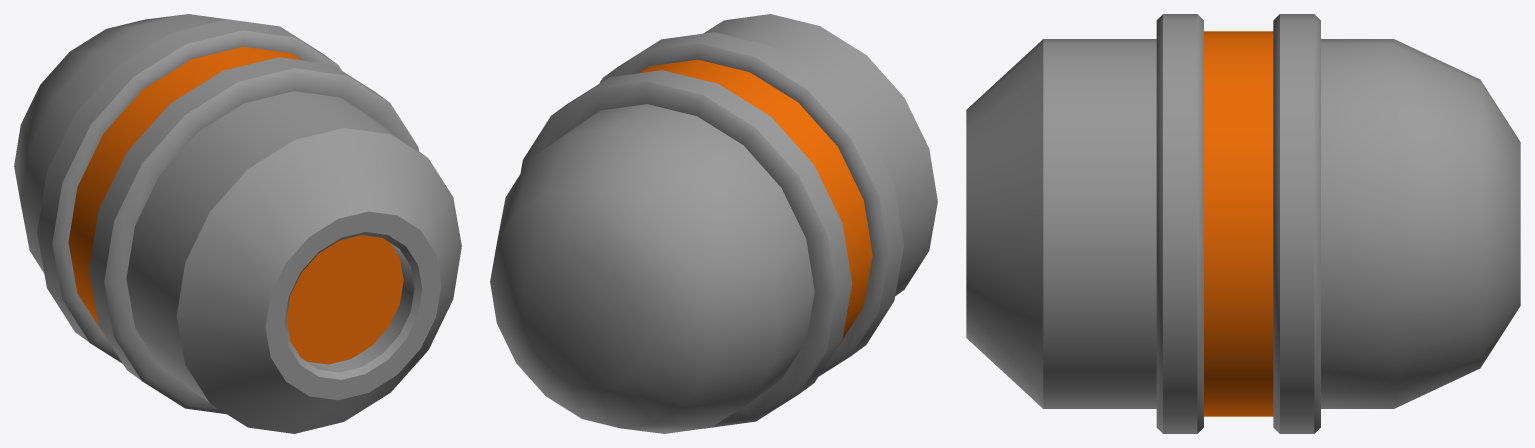
The model's file is laserLineBot.FBX.
3 renders of one model, left to right at view 1: azimuth 30°, elevation 25°; view 2: azimuth 150°, elevation 25°; view 3: azimuth 270°, elevation 25°, orthographic. The views are drawn at different scales.
Parts seen in each view (by area): view 1: laserLine; view 2: laserLine; view 3: laserLine.
Boxes of the visible parts, <box> form: laserLine: <box>14,14,461,433</box>; laserLine: <box>490,14,937,433</box>; laserLine: <box>966,14,1520,433</box>.
Size of the model in its own units: 52.92 by 52.12 by 69.57.
